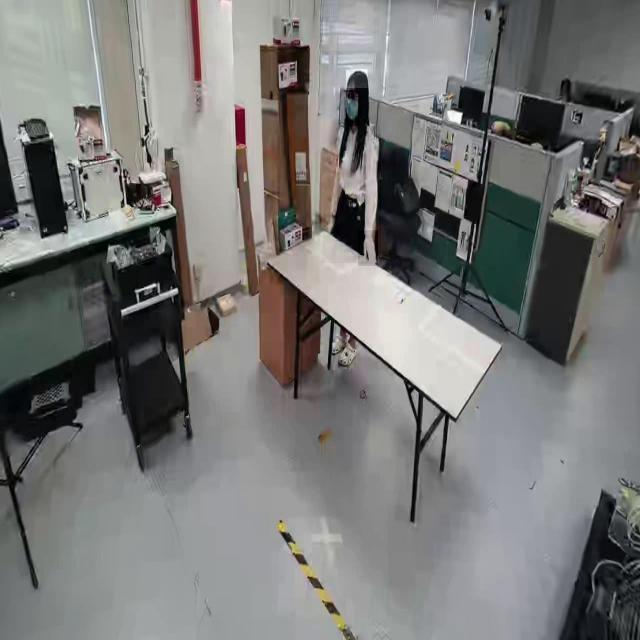gloves: (358, 230, 378, 266)
